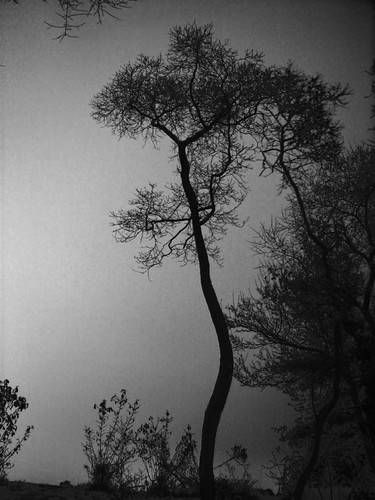sky: (1, 1, 233, 425)
tree: (110, 51, 313, 500), (278, 103, 375, 484)
